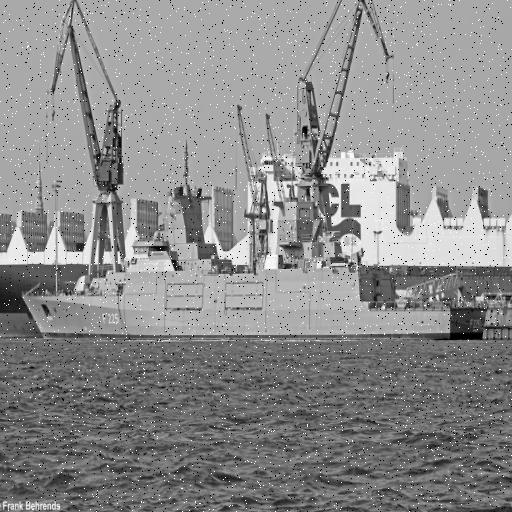Fragata: (21, 182, 491, 345)
